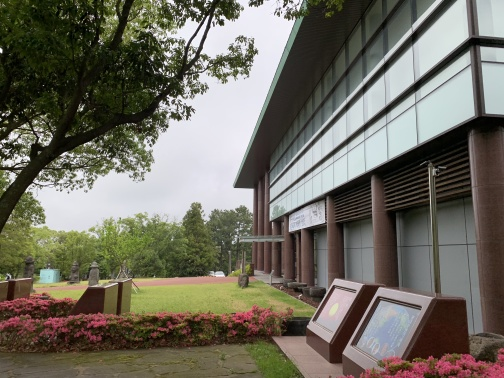Museum: (228, 11, 496, 365)
